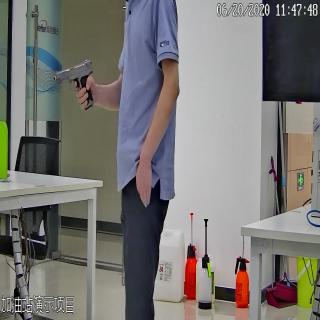gun: (51, 56, 96, 110)
